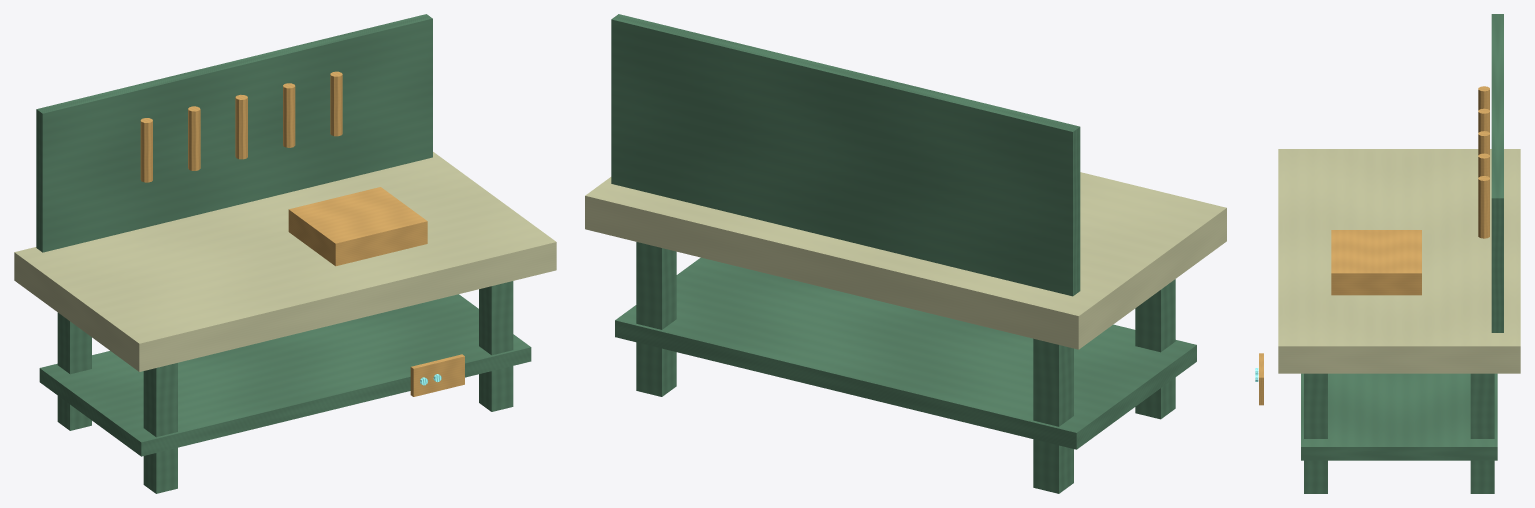
File: atlas100-s008-a01.glb
3 renders of one model, left to right at view 1: azimuth 30°, elevation 25°; view 2: azimuth 150°, elevation 25°; view 3: azimuth 270°, elevation 25°, orthographic. The views are drawn at different scales.
Parts seen in each view (by area): view 1: atlas100-s008-a01:part-004, atlas100-s008-a01:part-006, atlas100-s008-a01:part-005, atlas100-s008-a01:part-012, atlas100-s008-a01:part-003, atlas100-s008-a01:part-001, atlas100-s008-a01:part-000, atlas100-s008-a01:part-013, atlas100-s008-a01:part-011, atlas100-s008-a01:part-010, atlas100-s008-a01:part-008, atlas100-s008-a01:part-009 (+1 smaller); view 2: atlas100-s008-a01:part-006, atlas100-s008-a01:part-005, atlas100-s008-a01:part-004, atlas100-s008-a01:part-000, atlas100-s008-a01:part-002, atlas100-s008-a01:part-001; view 3: atlas100-s008-a01:part-004, atlas100-s008-a01:part-005, atlas100-s008-a01:part-012, atlas100-s008-a01:part-006, atlas100-s008-a01:part-002, atlas100-s008-a01:part-003, atlas100-s008-a01:part-011.
Boxes of the visible parts, <box> form: atlas100-s008-a01:part-004: <box>14,152,556,371</box>; atlas100-s008-a01:part-006: <box>36,14,432,252</box>; atlas100-s008-a01:part-005: <box>39,294,531,456</box>; atlas100-s008-a01:part-012: <box>288,187,427,266</box>; atlas100-s008-a01:part-003: <box>479,281,513,411</box>; atlas100-s008-a01:part-001: <box>143,363,177,493</box>; atlas100-s008-a01:part-000: <box>57,312,91,430</box>; atlas100-s008-a01:part-013: <box>410,354,464,396</box>; atlas100-s008-a01:part-011: <box>330,71,342,136</box>; atlas100-s008-a01:part-010: <box>283,83,295,147</box>; atlas100-s008-a01:part-008: <box>188,106,200,170</box>; atlas100-s008-a01:part-009: <box>235,94,247,159</box>; atlas100-s008-a01:part-006: <box>611,14,1080,296</box>; atlas100-s008-a01:part-005: <box>615,257,1196,449</box>; atlas100-s008-a01:part-004: <box>585,172,1226,349</box>; atlas100-s008-a01:part-000: <box>1033,338,1073,493</box>; atlas100-s008-a01:part-002: <box>636,242,676,396</box>; atlas100-s008-a01:part-001: <box>1135,279,1175,419</box>; atlas100-s008-a01:part-004: <box>1278,149,1520,373</box>; atlas100-s008-a01:part-005: <box>1301,373,1497,460</box>; atlas100-s008-a01:part-012: <box>1331,230,1421,295</box>; atlas100-s008-a01:part-006: <box>1491,14,1503,332</box>; atlas100-s008-a01:part-002: <box>1470,373,1494,493</box>; atlas100-s008-a01:part-003: <box>1304,373,1327,493</box>; atlas100-s008-a01:part-011: <box>1478,176,1489,238</box>.
Size of the model in its own units: 3.08 by 2.21 by 1.75.
Materials: 4 (4 with a texture image).
